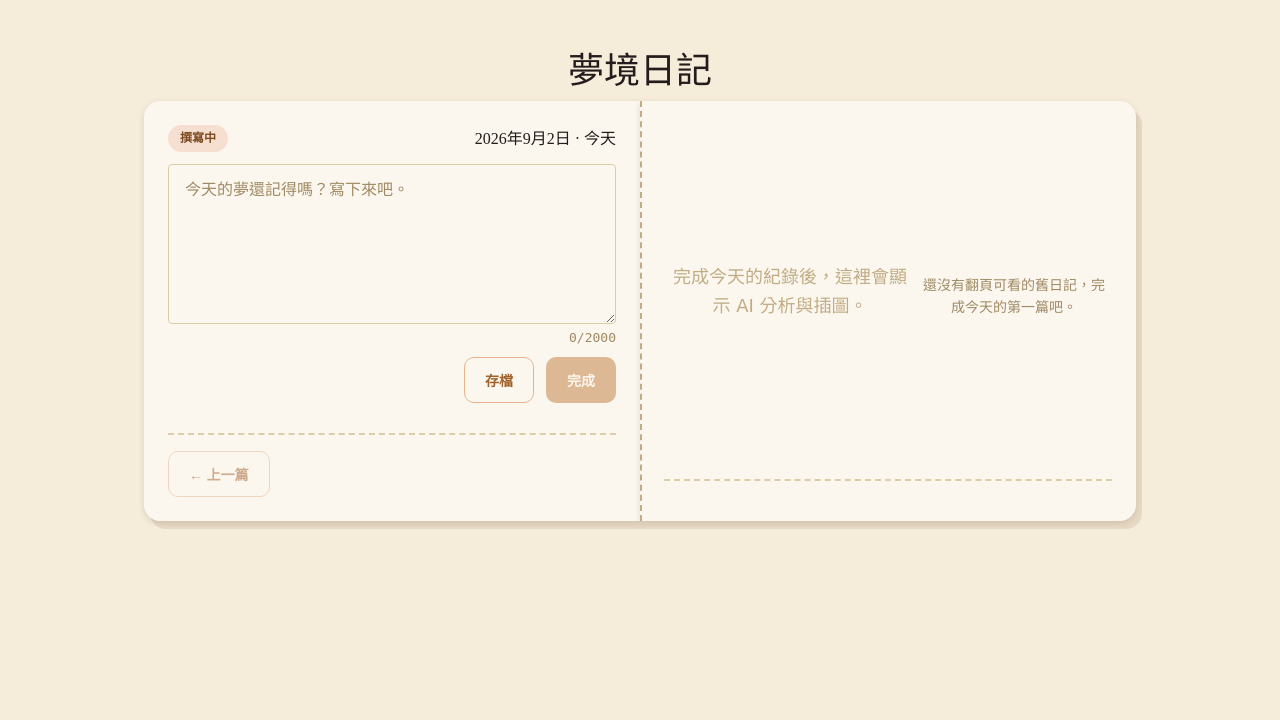
JournalPage › shows an error toast and stays editable/retriable when AI generation fails
In the text box named "今日夢境日記內容": (392, 244) [168,164,616,324], type "夢到在飛"
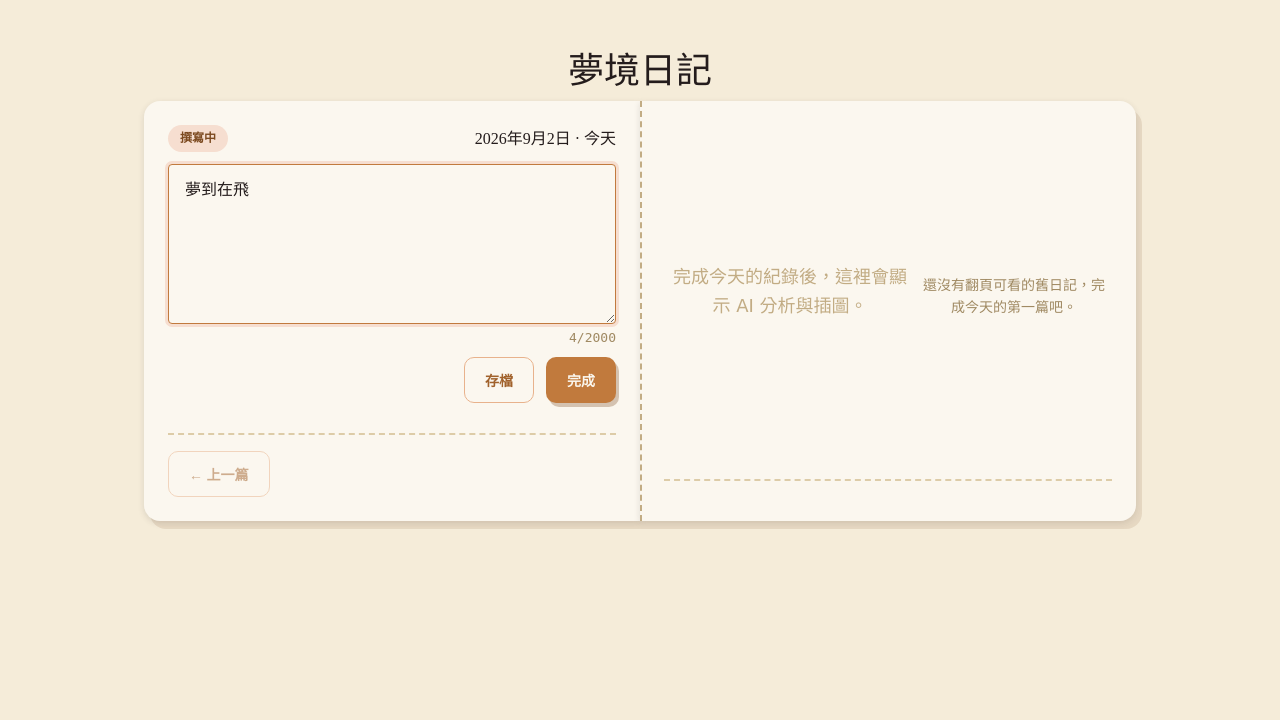
Click the button "完成": (581, 380) [546,357,616,403]
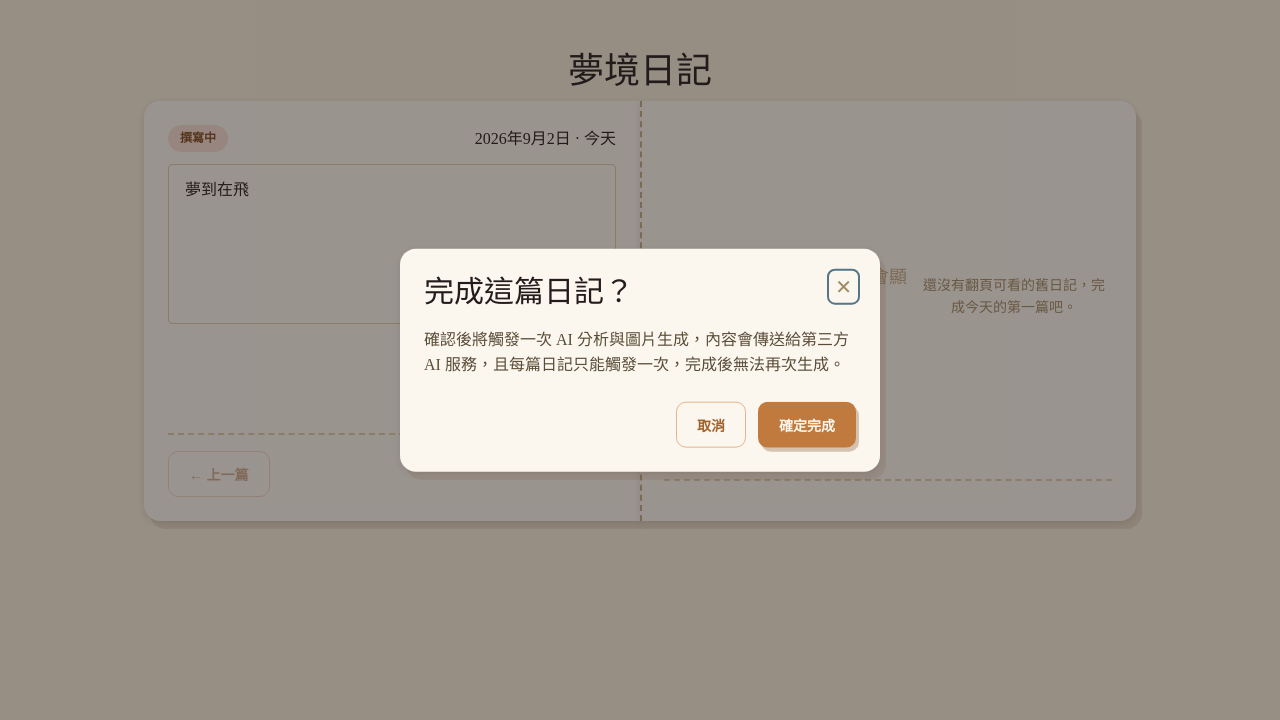
Click the button "確定完成": (807, 424) [758,401,856,447]
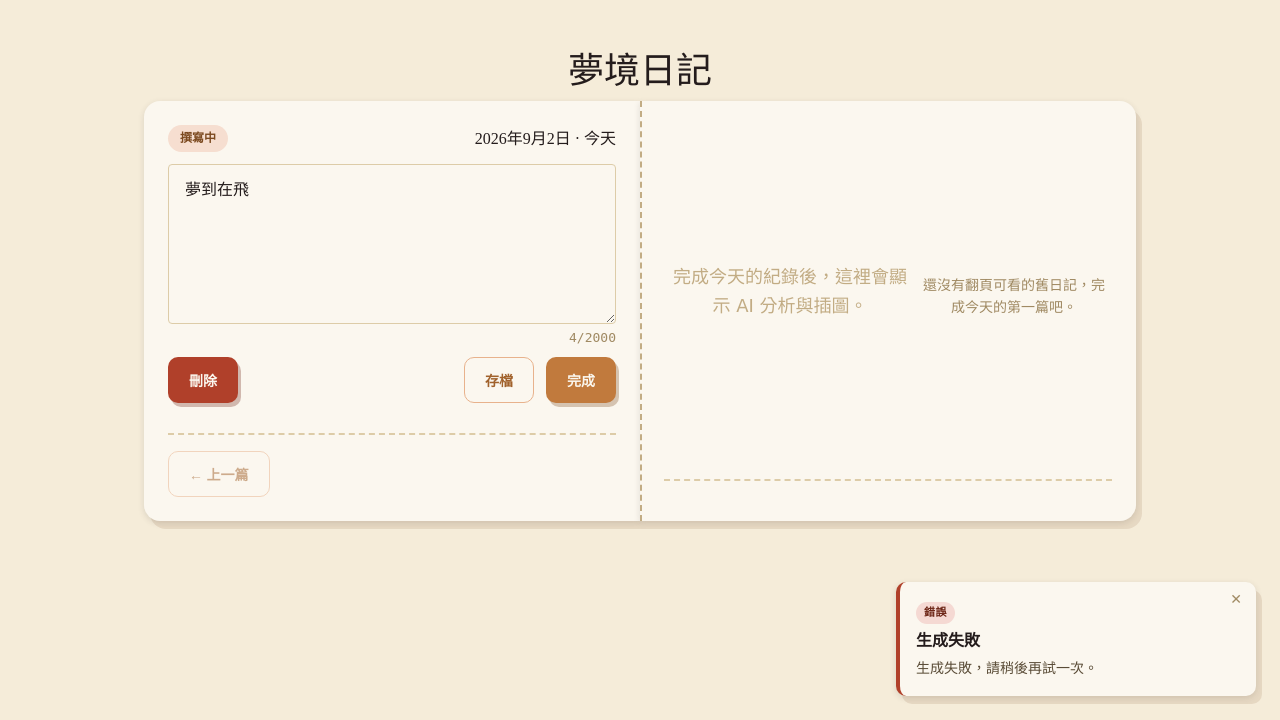
Check: the text "撰寫中" is shown, box [168,125,228,152]
Check: the button "完成" is enabled, box [546,357,616,403]
Check: the text "生成失敗，請稍後再試一次。" is shown, box [916,661,1098,676]
